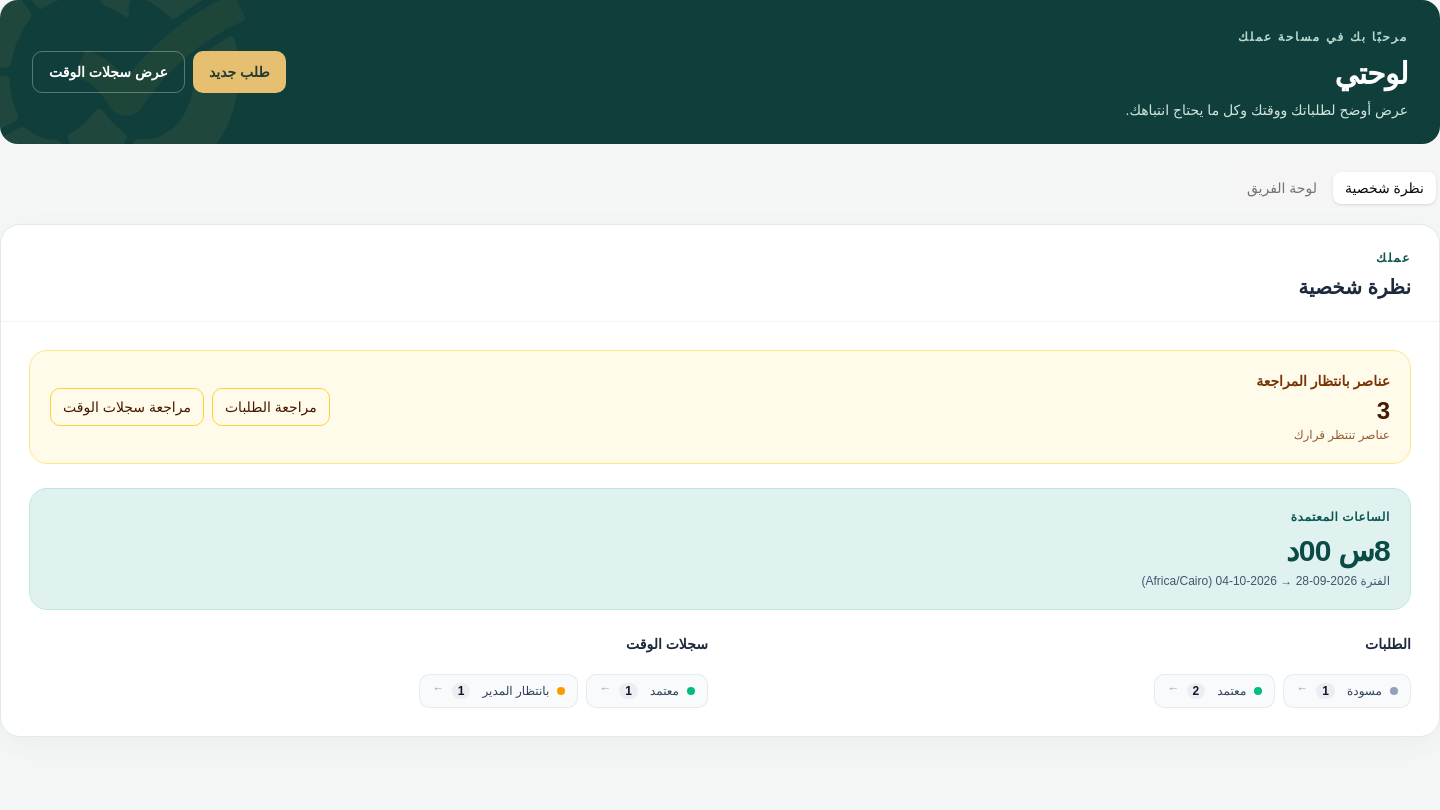
Test case: DashboardPage › localizes the role-aware views in Arabic
Expected: the element named "عروض لوحة التحكم" is shown, left=1231, top=168, right=1439, bottom=208
Expected: the heading "عناصر بانتظار المراجعة" is shown, left=1256, top=371, right=1390, bottom=391
Click the tab "لوحة الفريق" at (1282, 188), box left=1235, top=172, right=1329, bottom=204
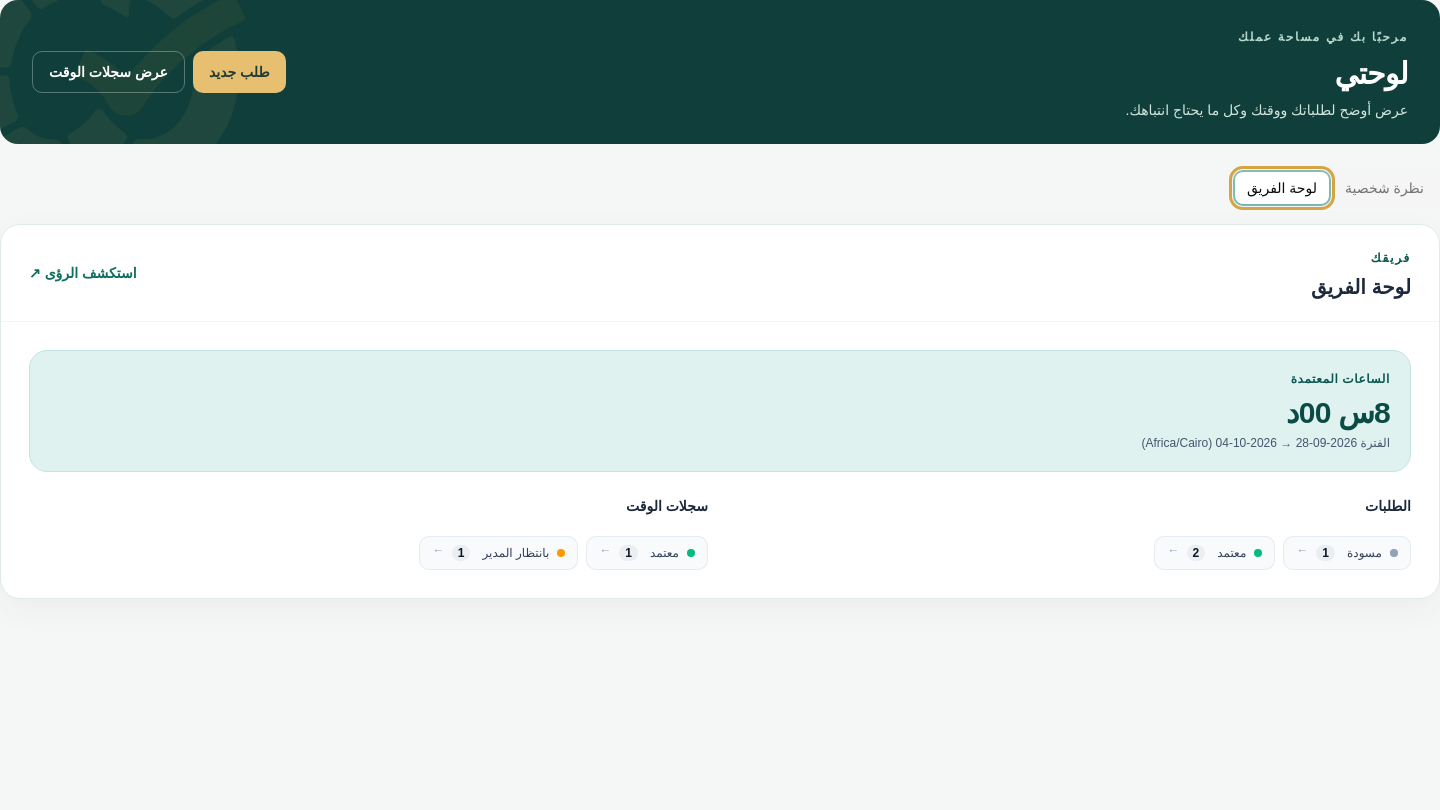
Result: the element "لوحة الفريق" is shown at left=0, top=224, right=1439, bottom=599
